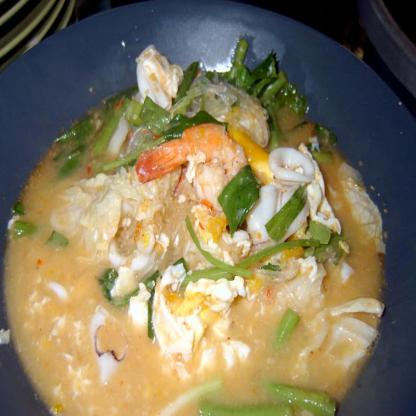Suki: (2, 62, 380, 416)
